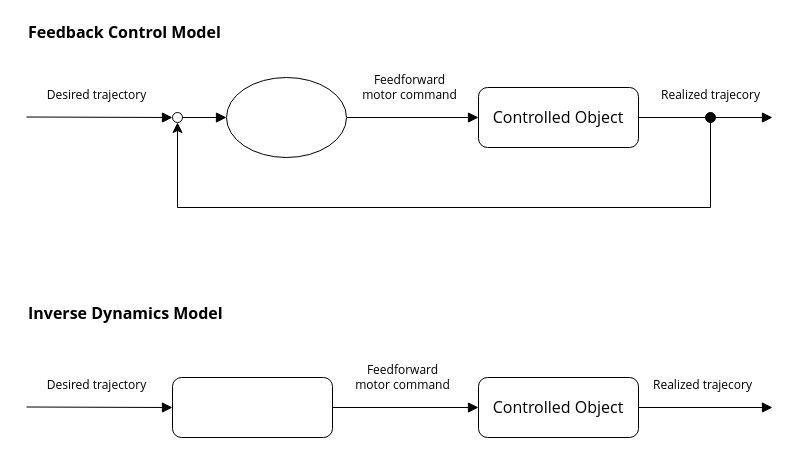
Some shapes in this 800 by 455 pixel diagram are drawn without their labels. The centre of each missing label's shape, as x and y in pixels:
Gain: (x=286, y=117)
Inverse Model: (x=252, y=407)
